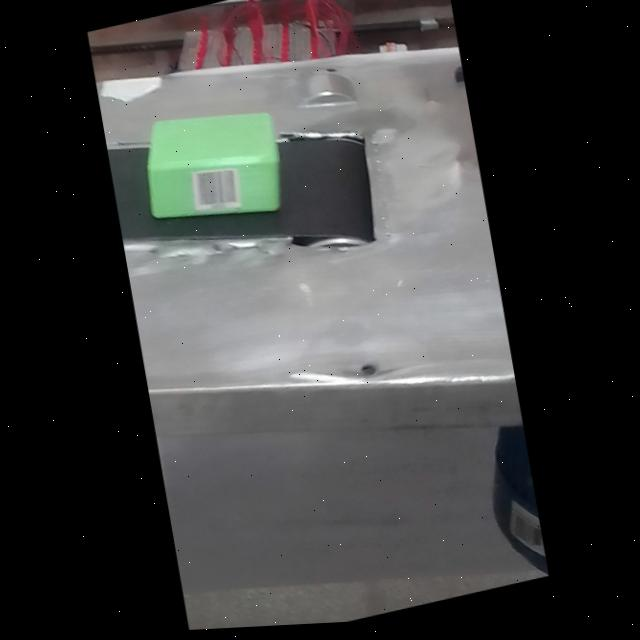greenBox: (128, 84, 305, 249)
